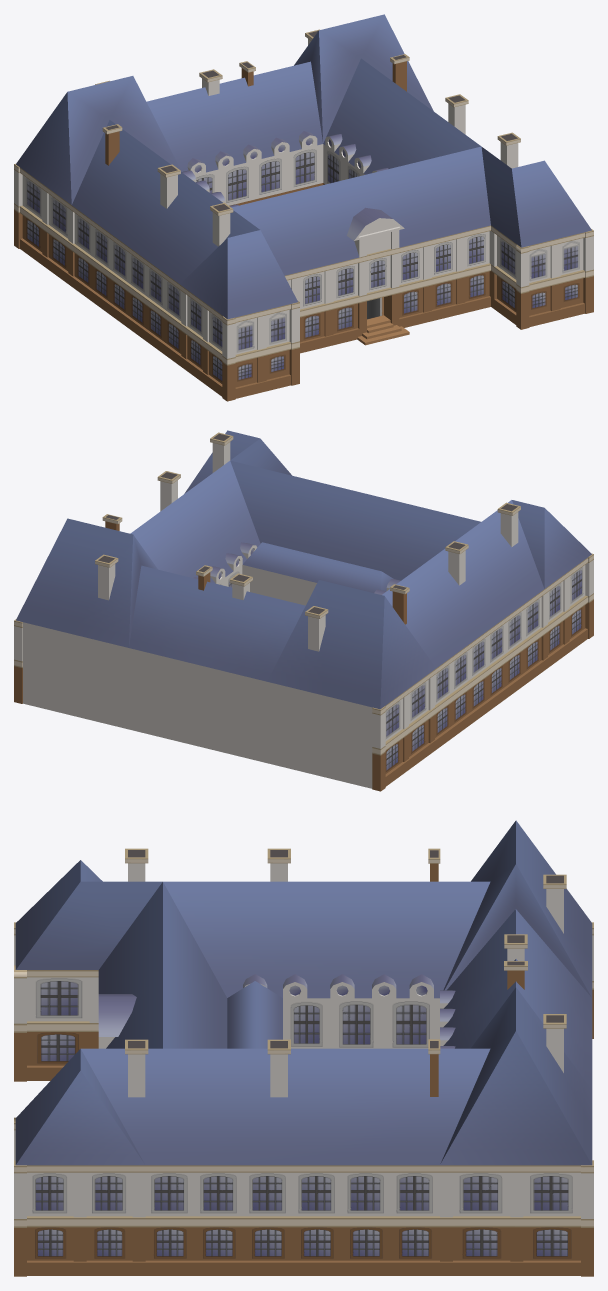
Rendered from Parlement.fbx.
The picture shows the model from 3 angles, top to bottom: view 1: azimuth 30°, elevation 25°; view 2: azimuth 150°, elevation 25°; view 3: azimuth 270°, elevation 25°; orthographic projection. The views are drawn at different scales.
Parts seen in each view (by area): view 1: Batiment002; view 2: Batiment002; view 3: Batiment002.
Boxes of the visible parts, left/top/right/bottom form: Batiment002: left=14, top=14, right=593, bottom=401; Batiment002: left=14, top=430, right=593, bottom=791; Batiment002: left=14, top=820, right=593, bottom=1276.
Bounding box in the file's own units: 65.97 × 29 × 66.4.
